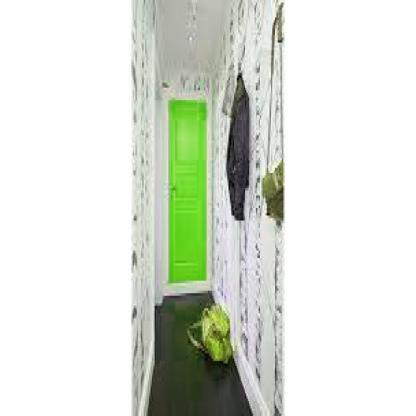door: (162, 82, 218, 310)
